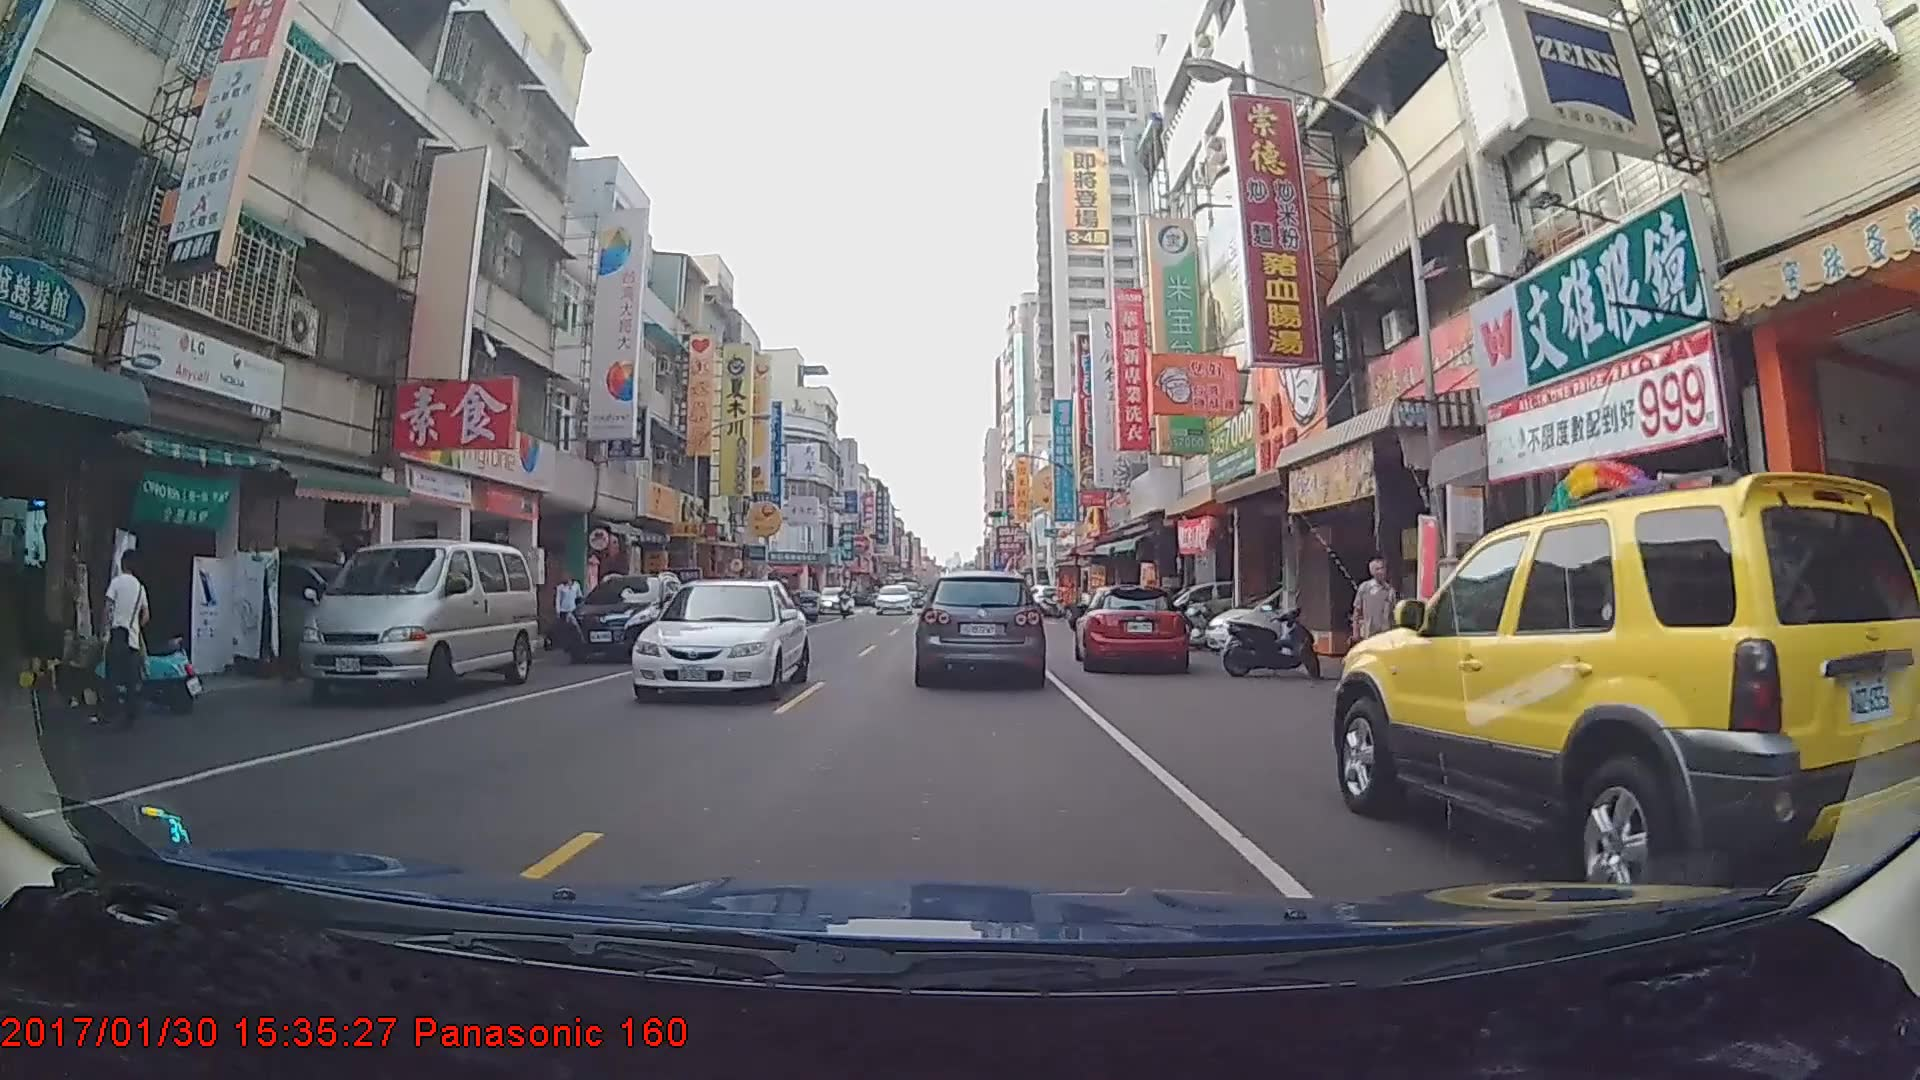pedestrian: (95, 553, 150, 736), (1349, 557, 1404, 703), (554, 571, 587, 644)
vehicle: (1330, 475, 1920, 916), (296, 537, 539, 706), (627, 575, 808, 702), (917, 569, 1043, 685), (563, 569, 690, 661), (1071, 578, 1187, 669), (872, 585, 912, 615), (817, 585, 853, 613)
